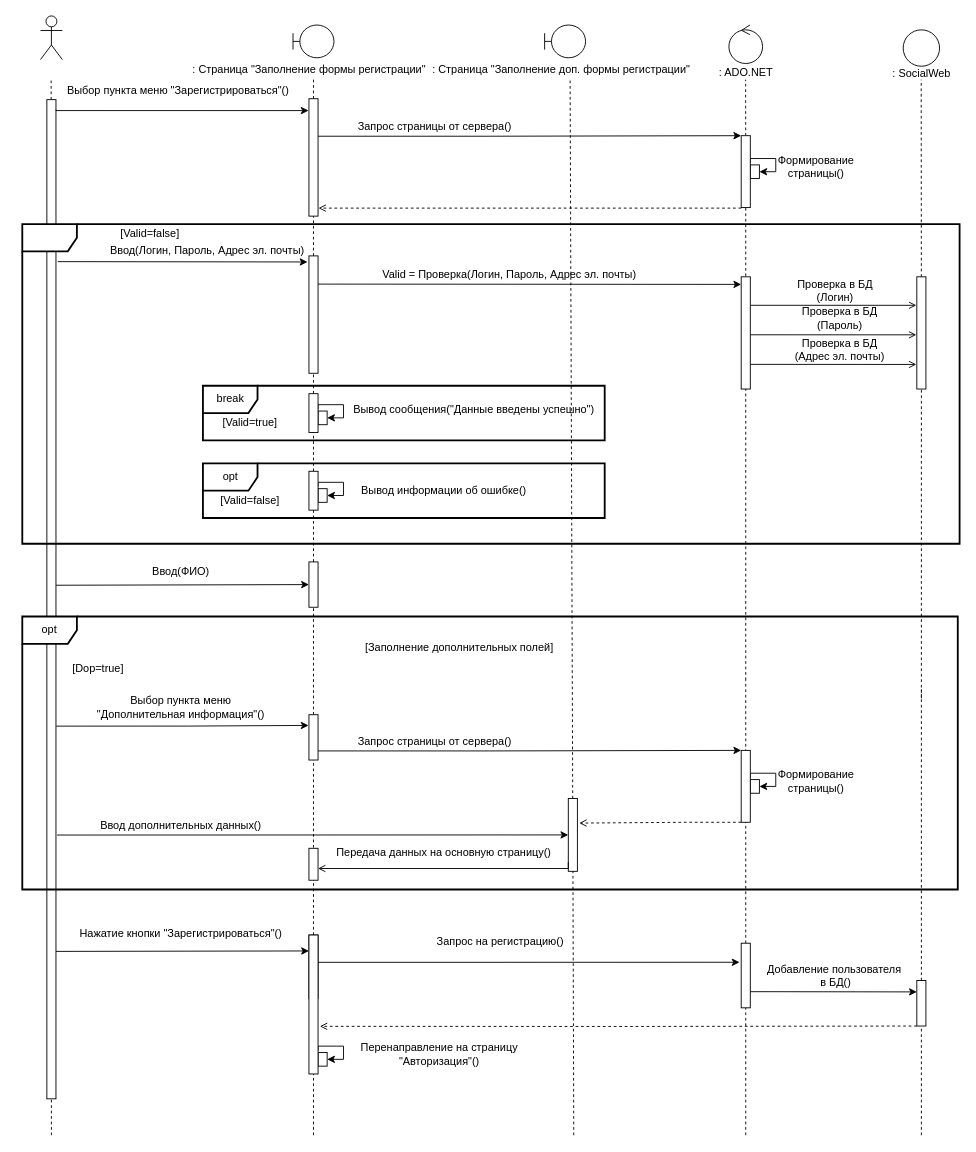
This 976x1152 diagram has some shape labels left out. The centre of each missing label's shape, as x and y in pixels:
loop: (x=490, y=383)
Пользователь: (x=51, y=37)
